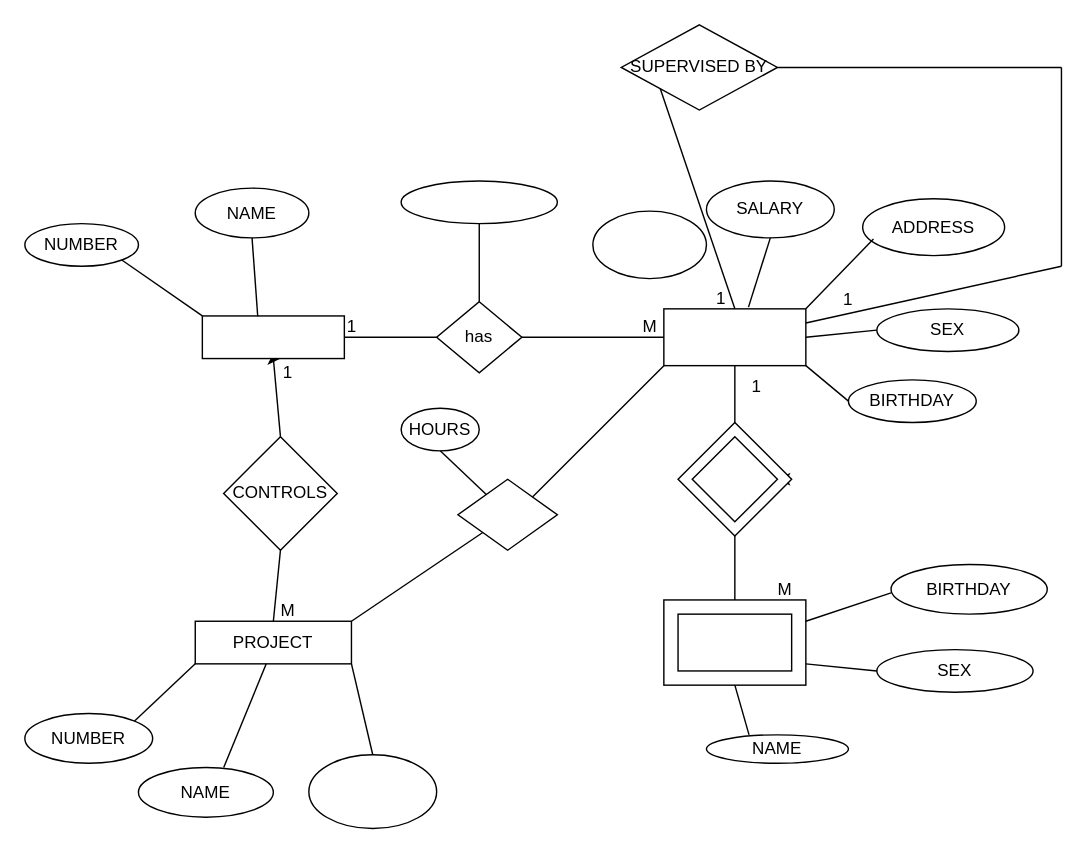
The diagram is 1088 pixels wide and 853 high, and some of its shapes have lost their labels. Here are the shapes that lost their labels. From the top down, the centre of each, then its label:
[478,202]: START DATE
[648,244]: SOCIAL SECURITY NUMBER
[272,337]: DEPARTMENT
[734,336]: EMPLOYEE
[734,478]: DEPEND
[507,514]: WORK
[734,642]: DEPENDENS
[372,791]: LOCATION
